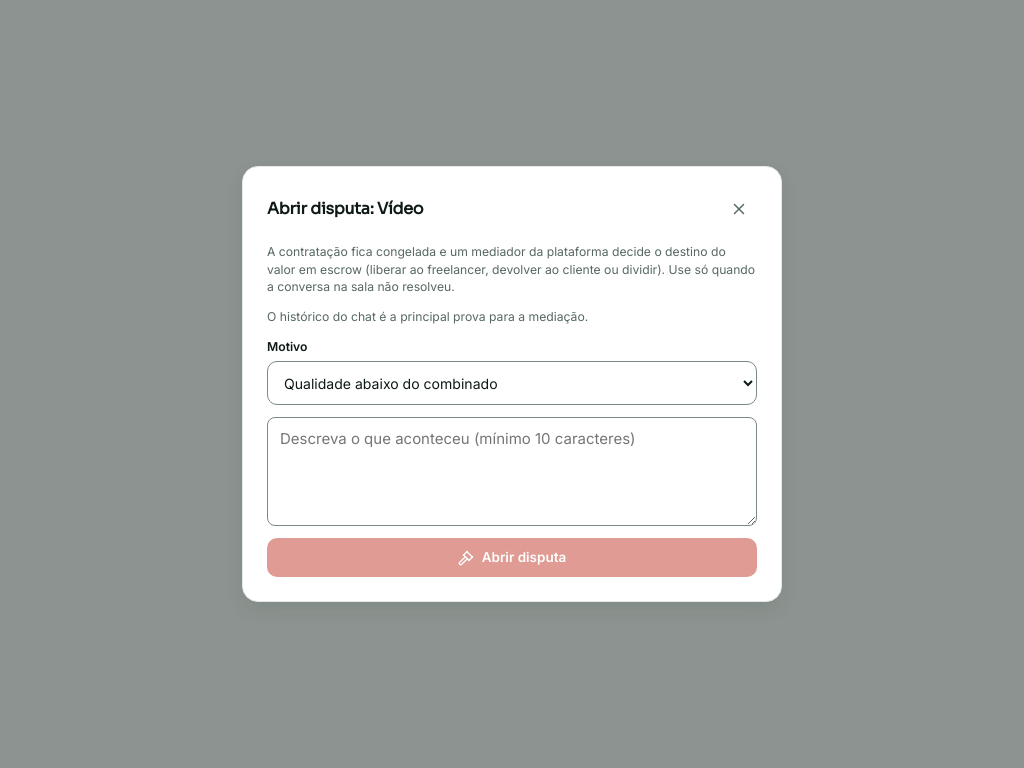
DisputeModal › falha sem mensagem: o aviso é "Erro ao abrir disputa"
This screenshot has width=1024, height=768.
Type "Não recebi o arquivo final." into the text box named "Descrição da disputa". click: (512, 472)
box: [267,417,757,526]
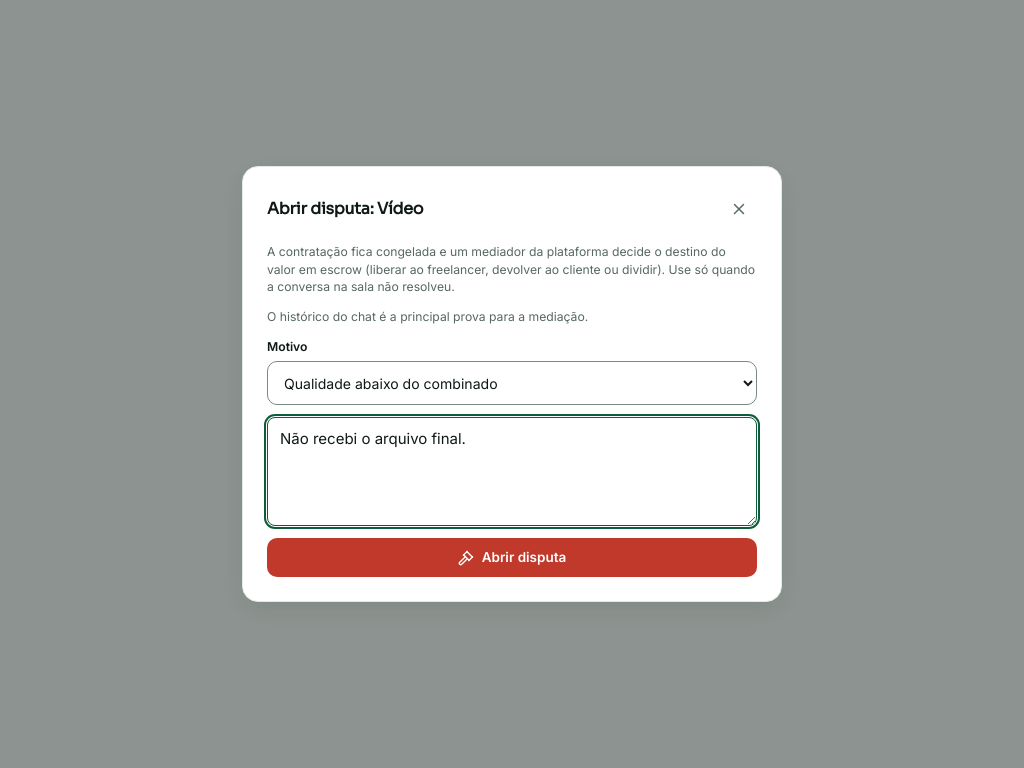
Click the button "Abrir disputa". click: click(512, 558)
box: [267,538,757,577]
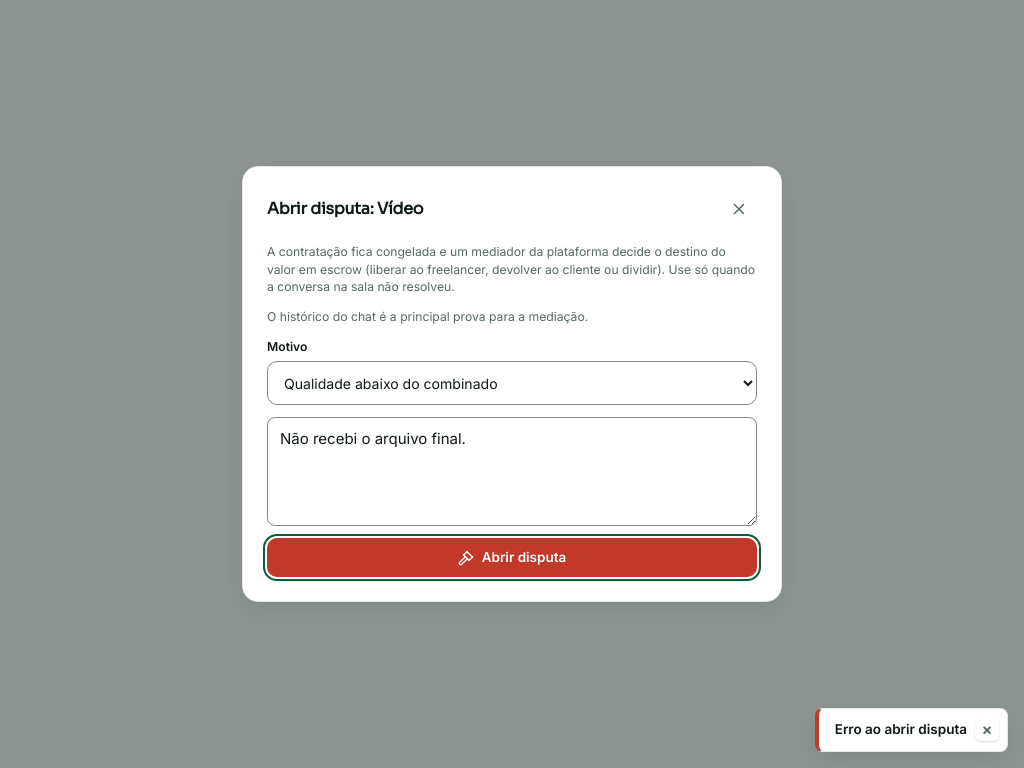
Check: the text "Erro ao abrir disputa" is shown, box [835,720,967,740]
